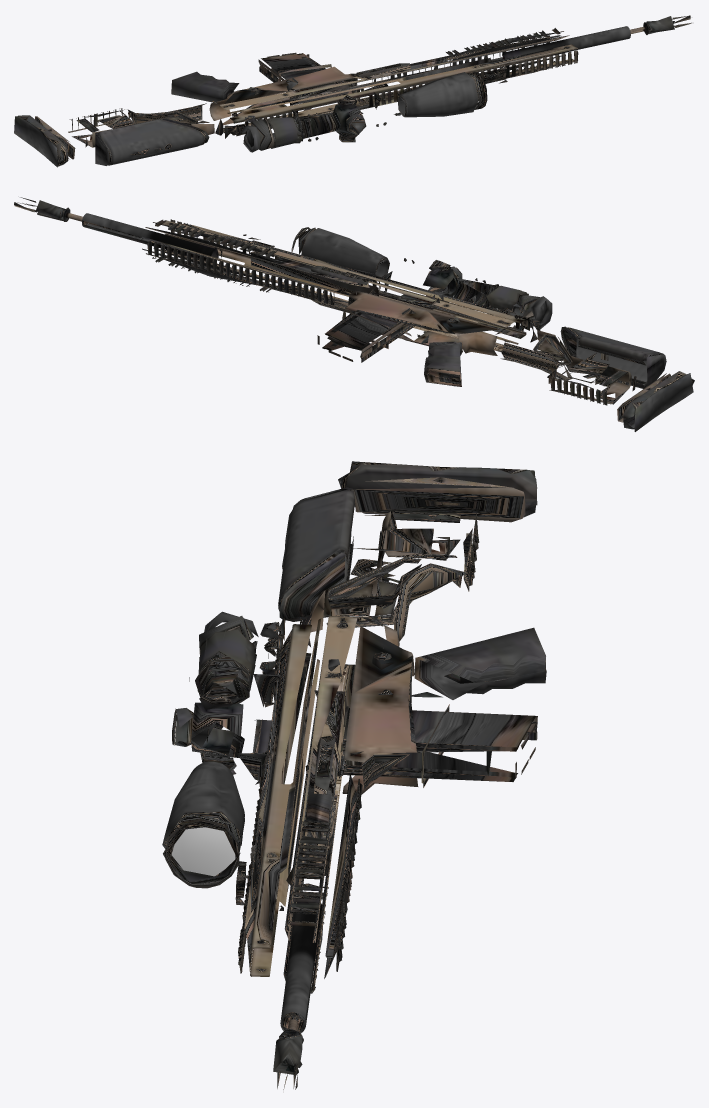
3 renders of one model, top to bottom at view 1: azimuth 30°, elevation 25°; view 2: azimuth 150°, elevation 25°; view 3: azimuth 270°, elevation 25°, orthographic. The views are drawn at different scales.
Visible parts, largest first — view 1: p_sg550; view 2: p_sg550; view 3: p_sg550.
Part boxes in pixels (bbox=[...]): p_sg550: bbox=[14, 15, 691, 167]; p_sg550: bbox=[14, 197, 694, 431]; p_sg550: bbox=[162, 461, 546, 1089].
Bounding box in the file's own units: 1.47 × 0.1027 × 0.393.
2 materials, 2 textured.
